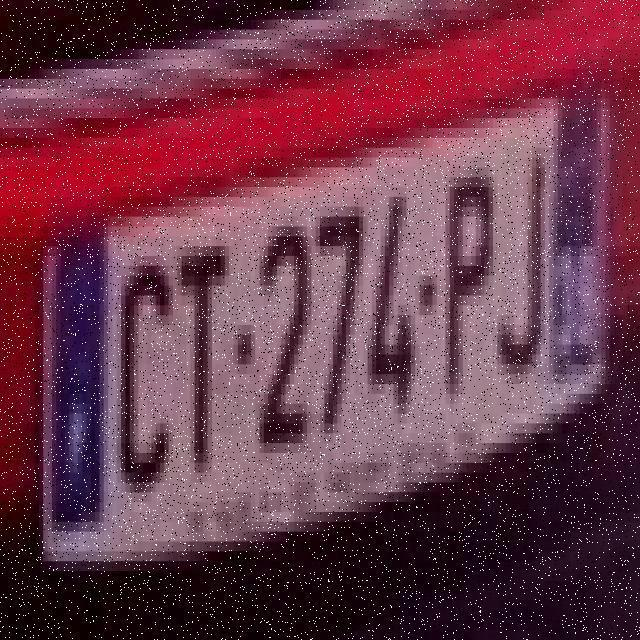License Plate: (42, 101, 618, 527)
